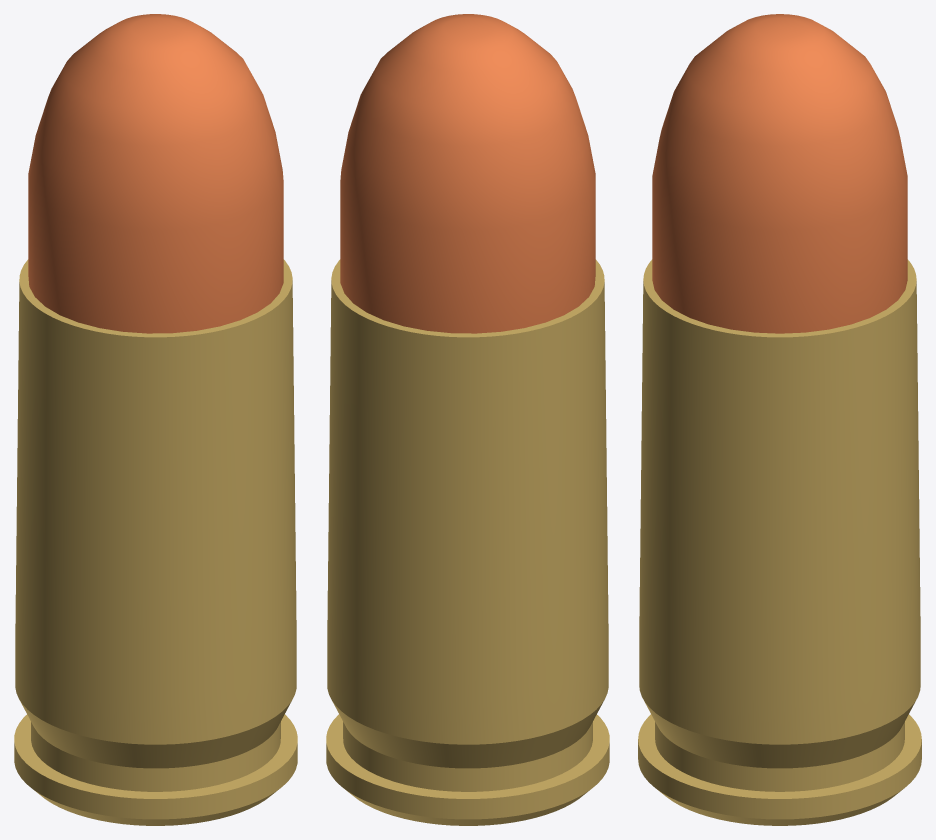
Rendered from SM_ZP_M9_Bullet.fbx.
3 renders of one model, left to right at view 1: azimuth 30°, elevation 25°; view 2: azimuth 150°, elevation 25°; view 3: azimuth 270°, elevation 25°, orthographic.
Visible parts, largest first — view 1: 9mm LUGER, 9mm100fmj.002; view 2: 9mm LUGER, 9mm100fmj.002; view 3: 9mm LUGER, 9mm100fmj.002.
Part boxes in pixels (box(x1,y1,x2,y2)): 9mm LUGER: box(14, 259, 297, 825); 9mm100fmj.002: box(28, 14, 283, 333); 9mm LUGER: box(326, 259, 609, 825); 9mm100fmj.002: box(340, 14, 595, 333); 9mm LUGER: box(638, 259, 921, 825); 9mm100fmj.002: box(652, 14, 907, 333).
Bounding box in the file's own units: 39.4 × 114 × 39.4.
